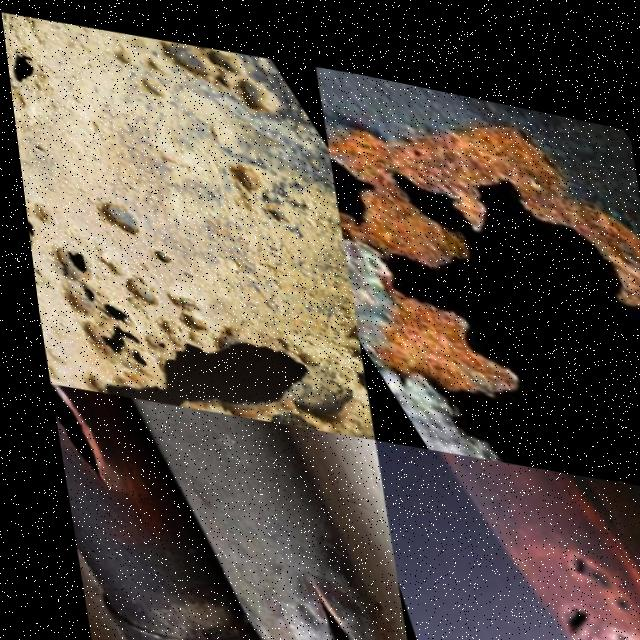hole: (320, 80, 640, 477), (105, 286, 327, 428), (36, 340, 193, 408), (326, 122, 400, 234), (105, 260, 197, 340), (544, 521, 620, 595), (61, 178, 142, 242), (223, 375, 320, 423), (552, 596, 638, 640), (59, 308, 132, 355), (4, 35, 54, 98), (526, 572, 588, 622), (35, 235, 89, 279), (76, 288, 120, 324), (44, 268, 84, 304), (96, 338, 134, 365), (21, 204, 41, 253), (131, 234, 163, 261)
rupture: (276, 559, 341, 640), (41, 382, 89, 480)
